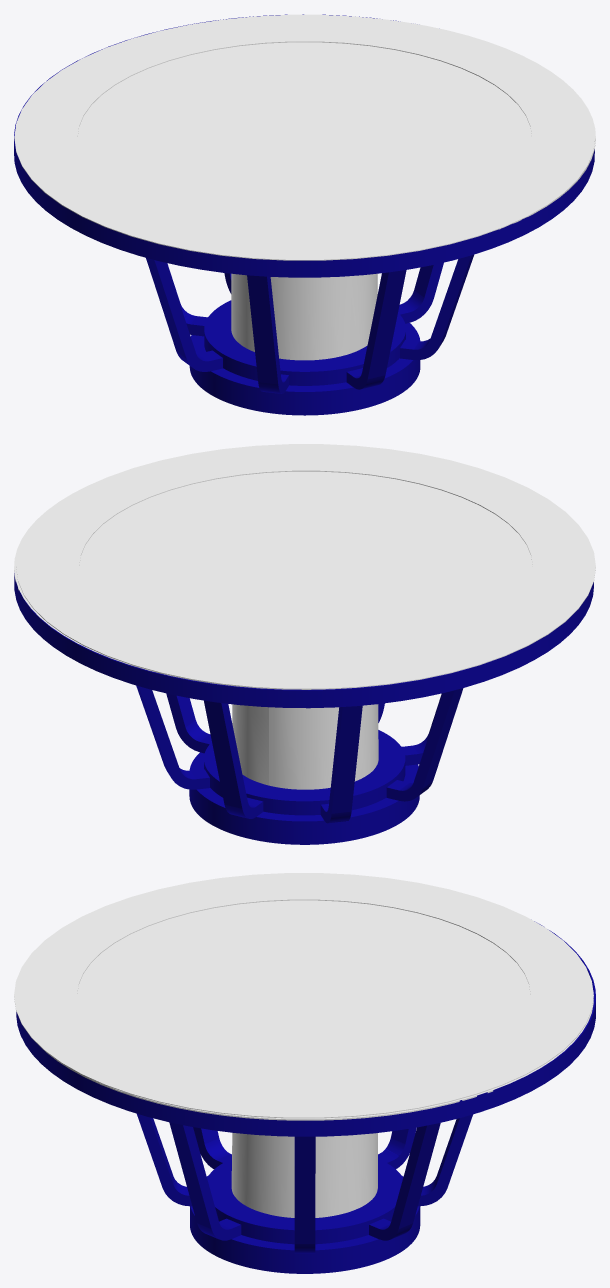
The model's file is VirtualTvNewsDesk_1_fbx.FBX.
3 renders of one model, top to bottom at view 1: azimuth 30°, elevation 25°; view 2: azimuth 150°, elevation 25°; view 3: azimuth 270°, elevation 25°, orthographic.
Visible parts, largest first — view 1: Desk_01, Desk_02, Desk_05, Desk_07, Desk_04, Desk_08; view 2: Desk_01, Desk_02, Desk_05, Desk_07, Desk_04, Desk_08; view 3: Desk_01, Desk_02, Desk_05, Desk_07, Desk_04, Desk_08.
Part boxes in pixels (x1,y1,x2,y2): Desk_01: (77, 18, 595, 233); Desk_02: (14, 14, 595, 260); Desk_05: (146, 254, 473, 393); Desk_07: (189, 300, 420, 415); Desk_04: (14, 14, 594, 277); Desk_08: (231, 273, 377, 360); Desk_01: (14, 471, 532, 689); Desk_02: (16, 444, 595, 689); Desk_05: (136, 685, 463, 823); Desk_07: (189, 730, 419, 844); Desk_04: (14, 573, 593, 708); Desk_08: (232, 704, 378, 789); Desk_01: (43, 900, 593, 1120); Desk_02: (14, 873, 593, 1118); Desk_05: (137, 1114, 472, 1253); Desk_07: (190, 1158, 420, 1273); Desk_04: (16, 921, 595, 1136); Desk_08: (231, 1133, 377, 1217).
Size of what is drawn, in the model's own units: 206 by 89.64 by 206.
